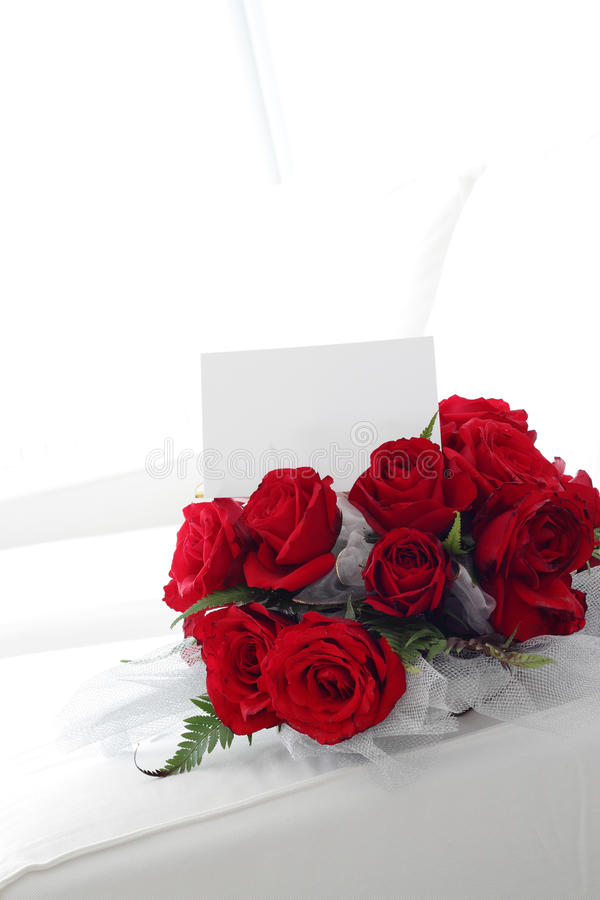RedRose: (250, 465, 346, 599), (283, 616, 385, 732), (189, 498, 267, 649), (204, 612, 258, 782), (376, 448, 457, 559), (501, 502, 595, 579), (477, 446, 571, 507), (400, 391, 499, 446), (370, 531, 422, 629), (508, 581, 580, 638)
